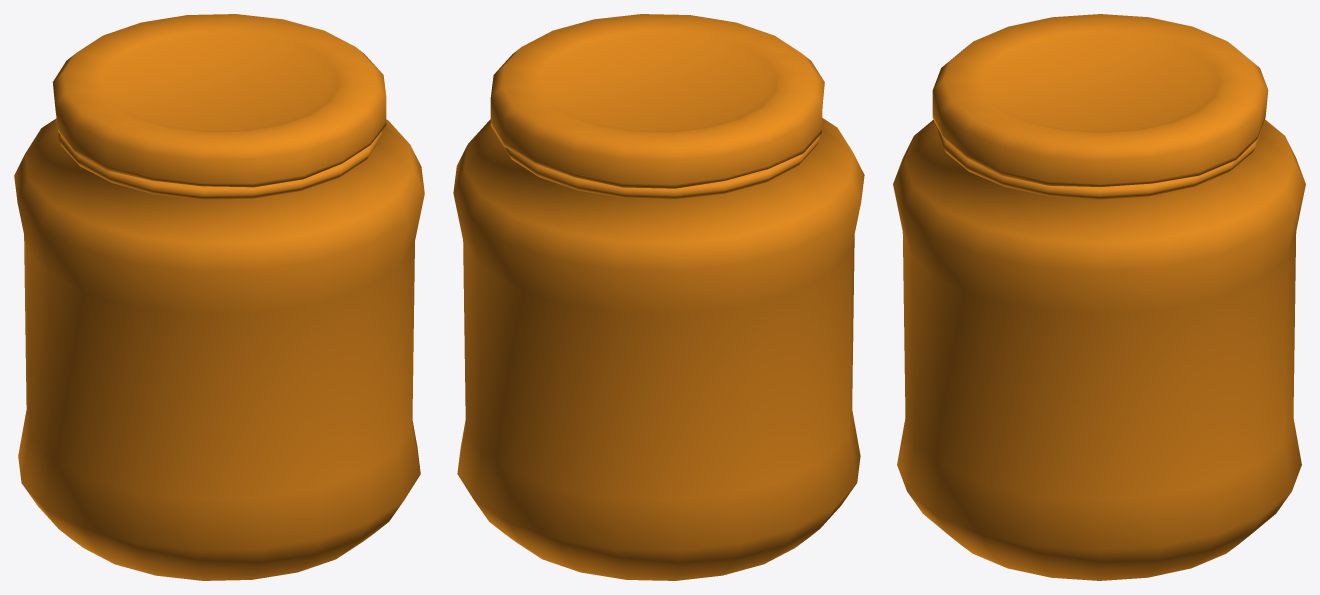
The model's file is marmeladenglas4_lowpoly.fbx.
3 views of the same model, side by side, from view 1: azimuth 30°, elevation 25°; view 2: azimuth 150°, elevation 25°; view 3: azimuth 270°, elevation 25° (orthographic).
Parts seen in each view (by area): view 1: Cylinder.004, Cylinder.002; view 2: Cylinder.004, Cylinder.002; view 3: Cylinder.004, Cylinder.002.
Part boxes in pixels (<box>): Cylinder.004: <box>14,118,424,580</box>; Cylinder.002: <box>52,14,386,187</box>; Cylinder.004: <box>453,118,864,580</box>; Cylinder.002: <box>490,14,824,188</box>; Cylinder.004: <box>893,119,1305,580</box>; Cylinder.002: <box>932,14,1268,186</box>.
Size of the model in its own units: 25.82 by 30.2 by 25.82.
